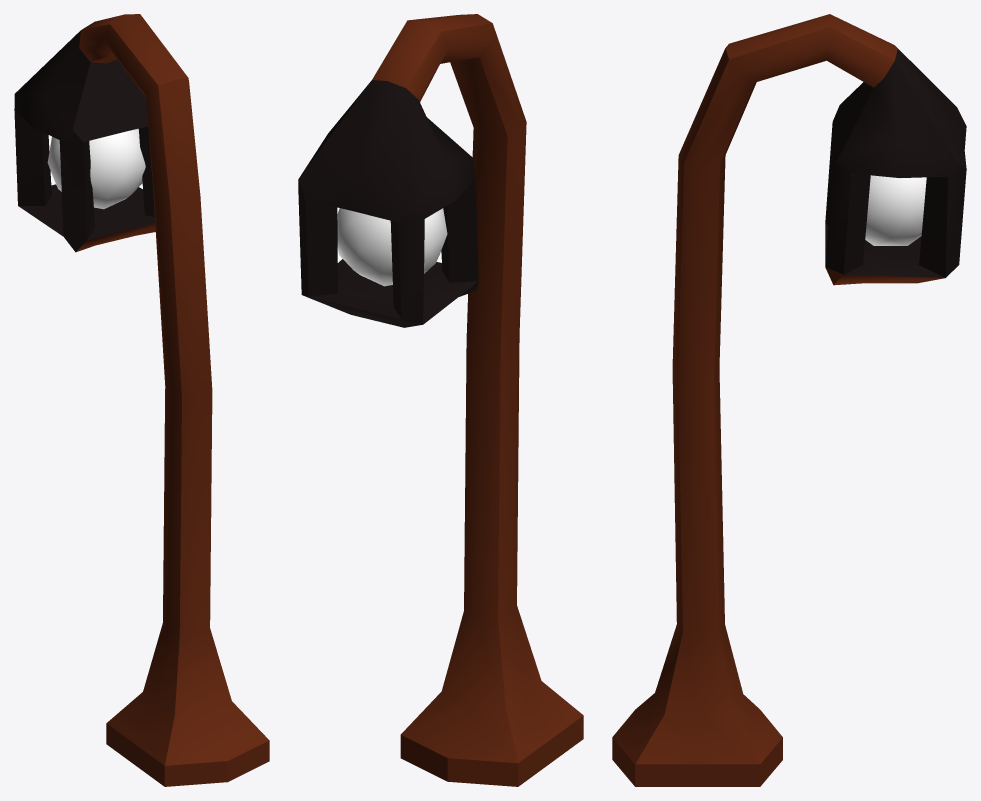
File: Lamp.FBX
3 views of the same model, side by side, from view 1: azimuth 30°, elevation 25°; view 2: azimuth 150°, elevation 25°; view 3: azimuth 270°, elevation 25° (orthographic). The views are drawn at different scales.
Visible parts, largest first — view 1: Body, Light; view 2: Body, Light; view 3: Body, Light.
Part boxes in pixels (<box>): Body: <box>14,14,269,786</box>; Light: <box>47,128,145,209</box>; Body: <box>298,14,583,786</box>; Light: <box>337,208,447,286</box>; Body: <box>612,14,966,786</box>; Light: <box>865,175,926,245</box>.
Bounding box in the file's own units: 0.8534 × 4.64 × 1.99.
